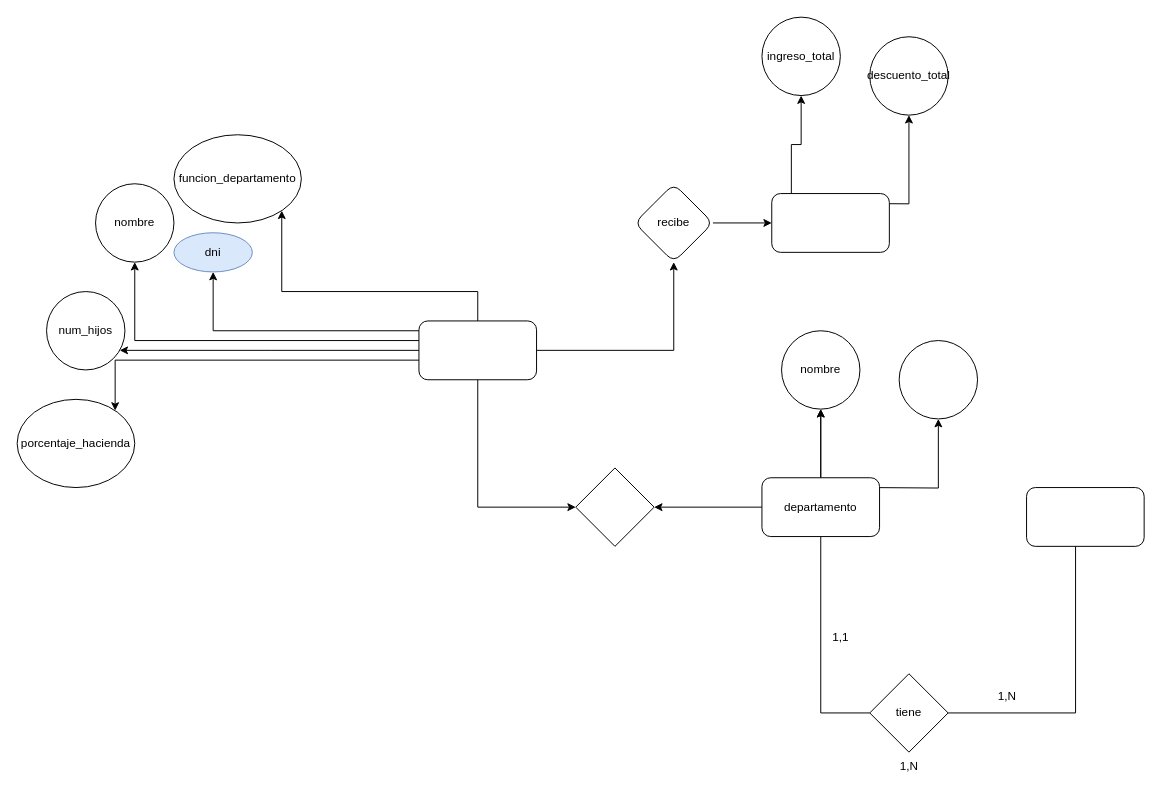
This 1161x799 diagram has some shape labels left out. Here are the shapes that lost their labels. From the top down, the box of each, then its label:
(771, 193, 889, 252): nominas
(418, 320, 537, 380): empleado
(898, 340, 978, 419): sedes
(575, 467, 654, 546): contrata
(1026, 487, 1144, 546): empresa
